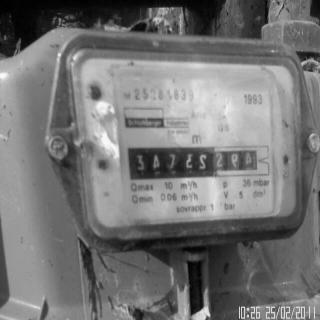3: (199, 152, 209, 170), (215, 152, 223, 168)
4: (134, 154, 146, 172), (184, 153, 194, 171)
5: (152, 154, 162, 171), (245, 153, 253, 168)
8: (168, 153, 177, 172)
:: (230, 153, 239, 171)
